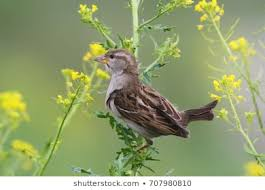hsparrow: (92, 47, 221, 152)
